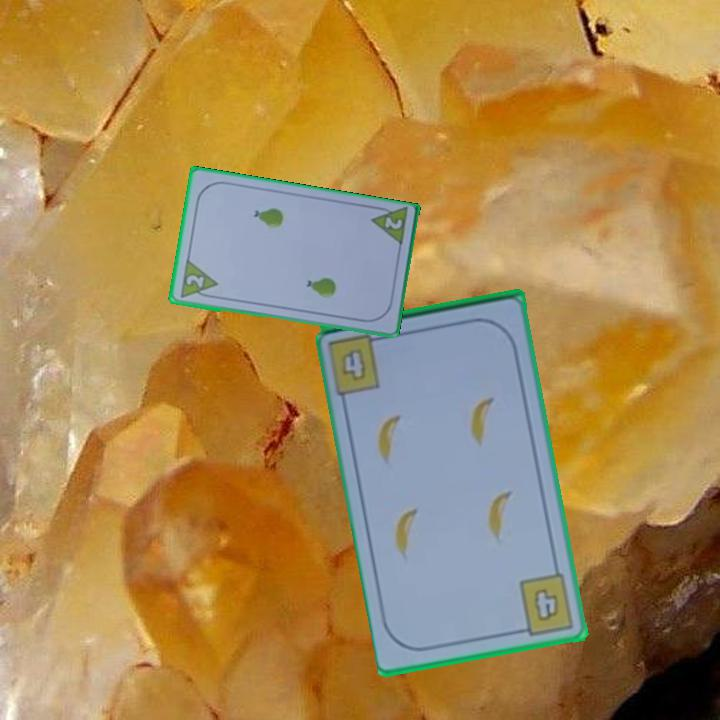2p: (176, 257, 220, 302), (381, 213, 405, 232)
4b: (514, 570, 578, 638), (338, 345, 370, 385)
